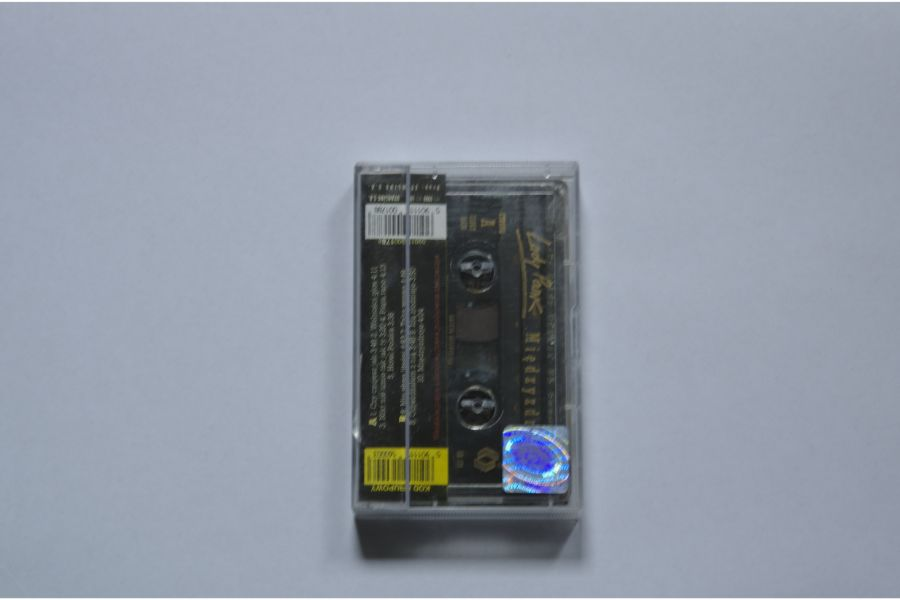album: (349, 158, 583, 523)
